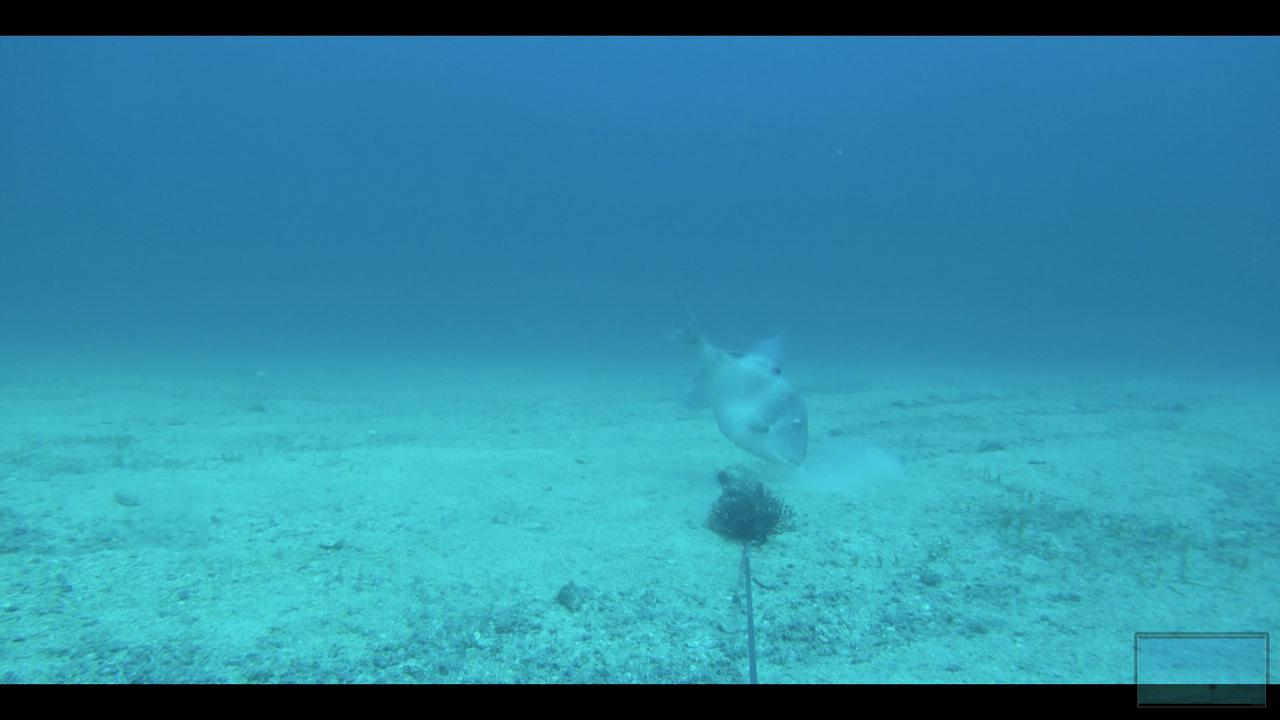balistes: (652, 308, 814, 474)
